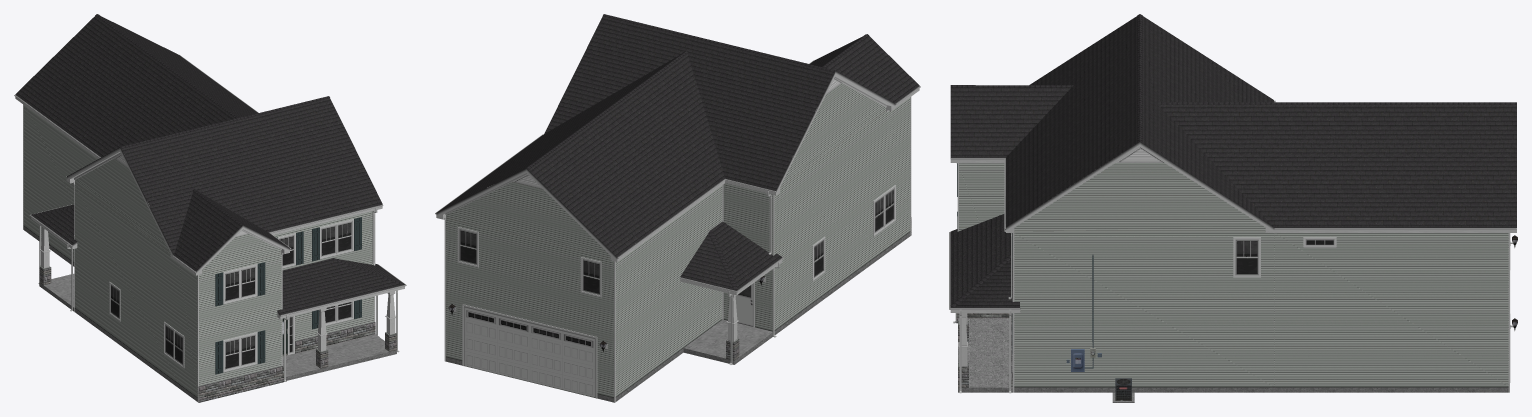
File: house1.glb
3 renders of one model, left to right at view 1: azimuth 30°, elevation 25°; view 2: azimuth 150°, elevation 25°; view 3: azimuth 270°, elevation 25°, orthographic. The views are drawn at different scales.
Visible parts, largest first — view 1: Object_2; view 2: Object_2; view 3: Object_2.
Part boxes in pixels (<box>): Object_2: <box>14,14,406,402</box>; Object_2: <box>435,14,920,402</box>; Object_2: <box>949,14,1517,402</box>.
Size of the model in its own units: 1133 by 991 by 2010.
Materials: 1 (1 with a texture image).
